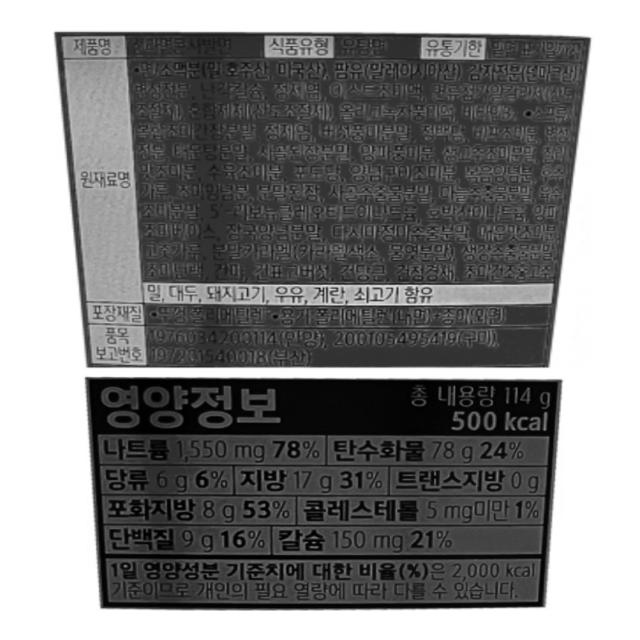Nutrition Label: (67, 362, 581, 619)
